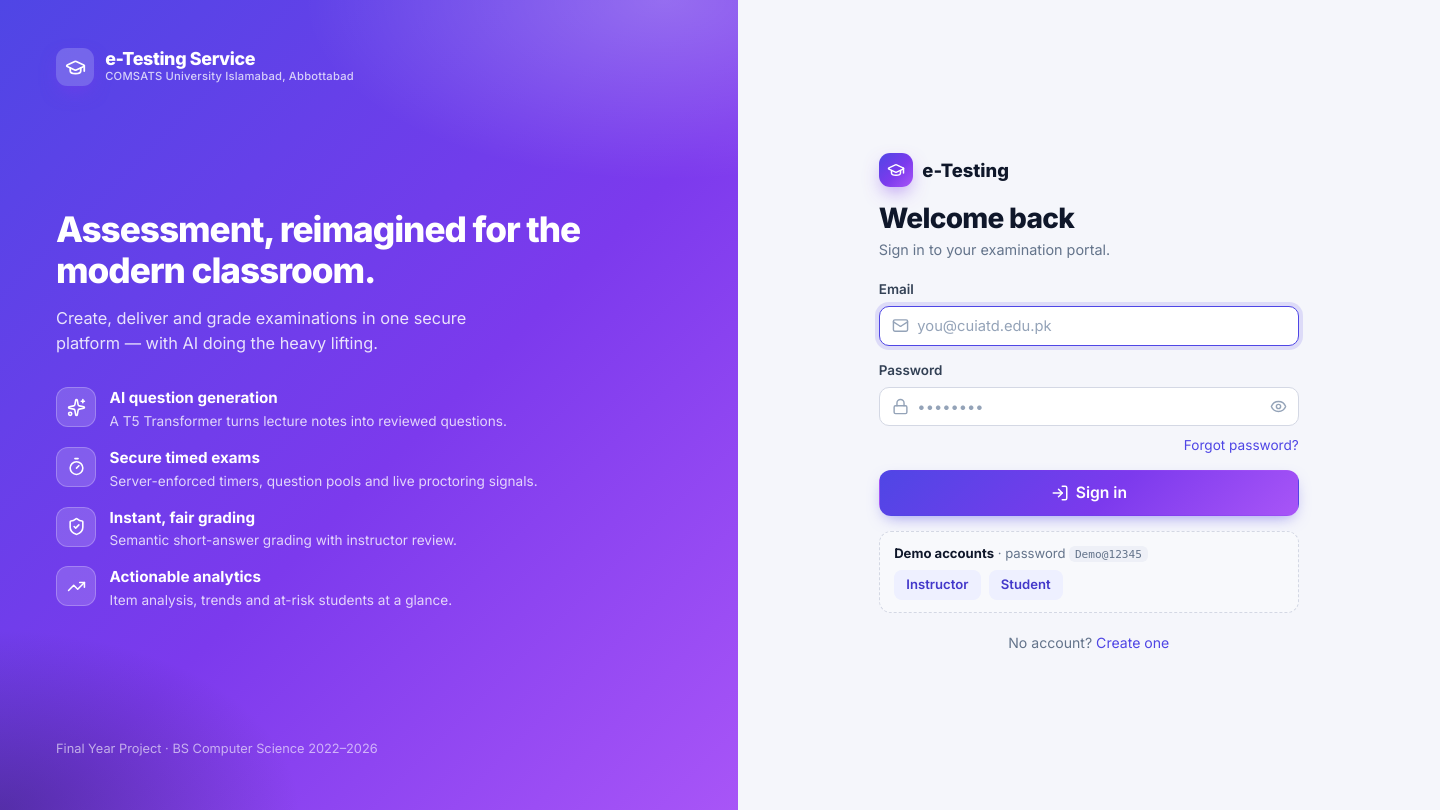
Test: Login page › offers demo logins when demo data exists
The image size is (1440, 810).
Click the button "Student": (1026, 585) left=989, top=570, right=1063, bottom=600
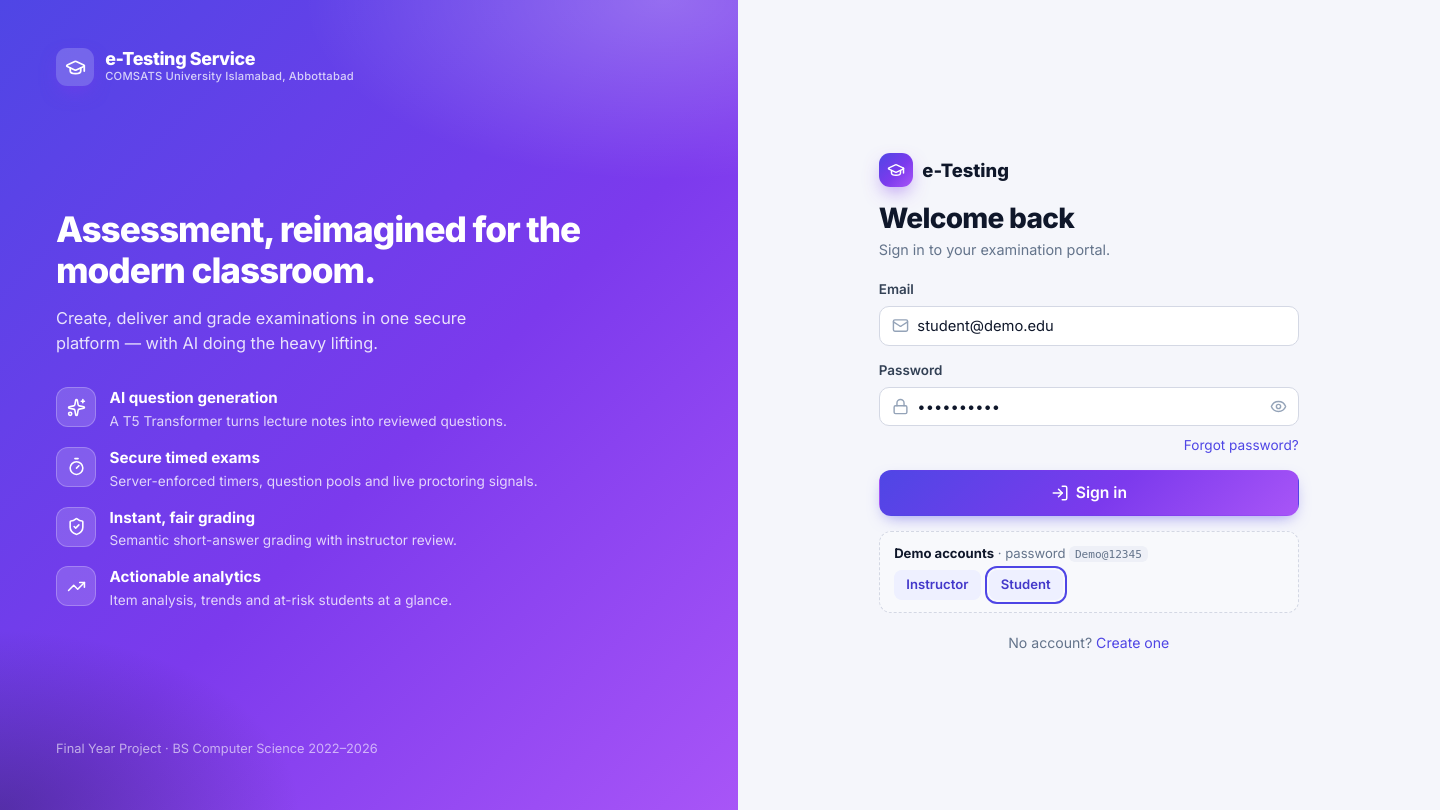
Expected: the field labelled "Email" holds "student@demo.edu", left=879, top=306, right=1299, bottom=346
Expected: the password field labelled "Password" holds "Demo@12345", left=879, top=387, right=1299, bottom=426
